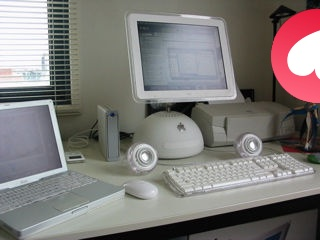love: (271, 9, 320, 103)
